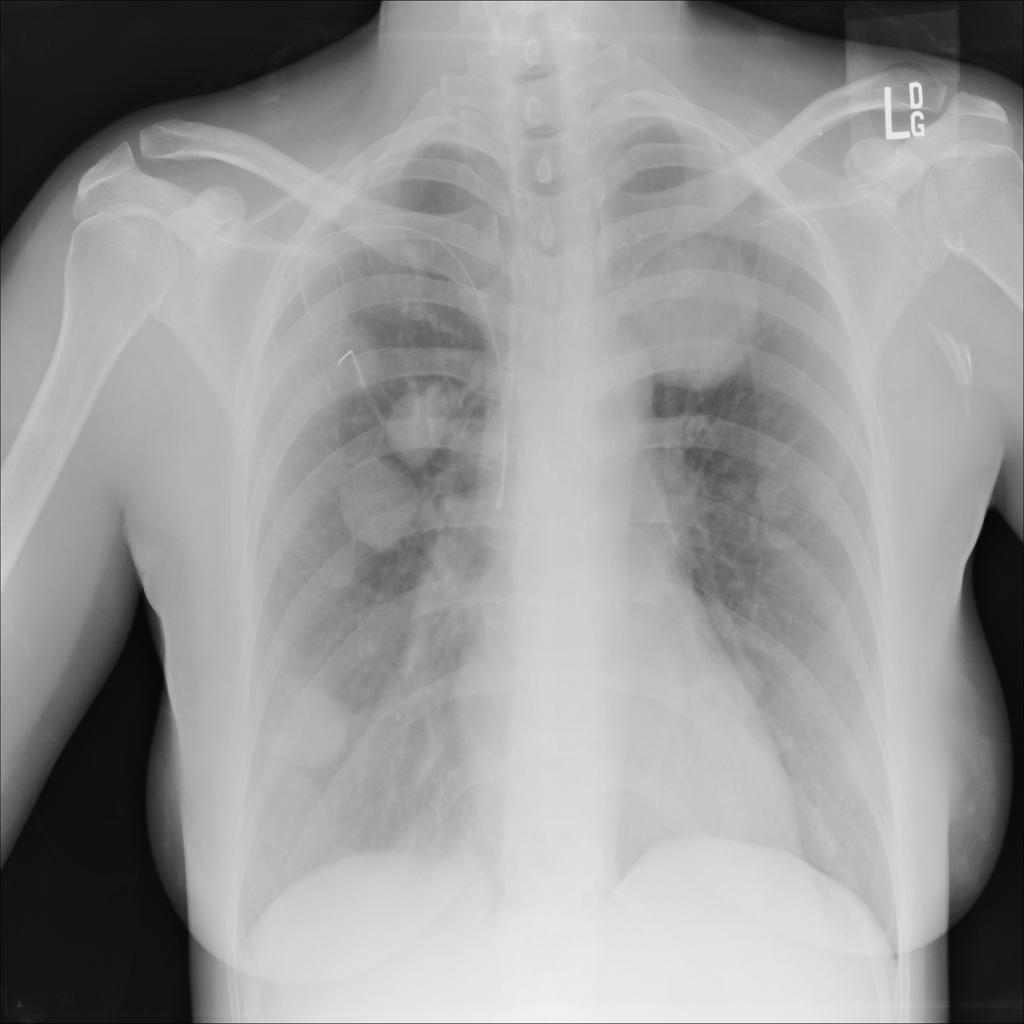nodule: (599, 208, 783, 405), (256, 661, 366, 780), (331, 449, 425, 554), (382, 372, 458, 473), (746, 462, 818, 544), (711, 637, 773, 724)
